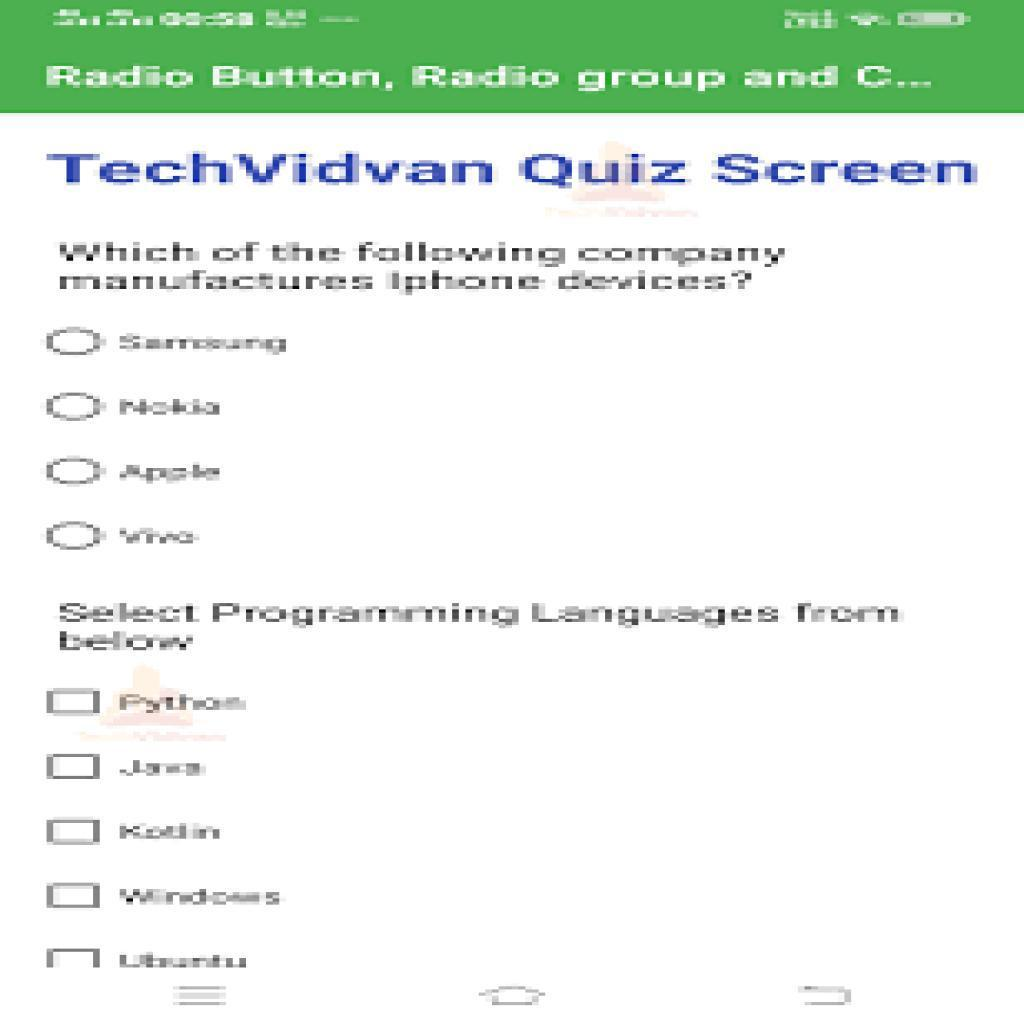checkbox: (48, 753, 104, 783), (47, 688, 101, 717), (51, 817, 100, 847), (51, 885, 101, 908), (52, 952, 98, 970)
radio: (41, 452, 108, 497), (43, 320, 107, 365), (47, 514, 108, 560), (42, 388, 108, 429)
